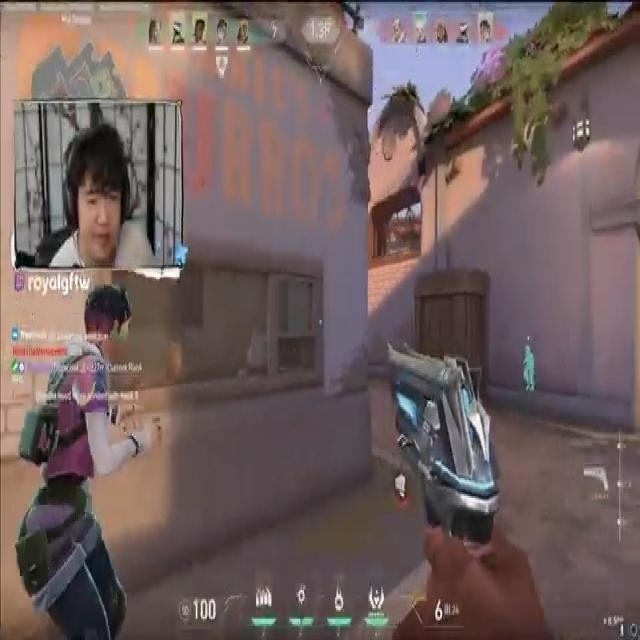ally: (6, 284, 163, 640)
